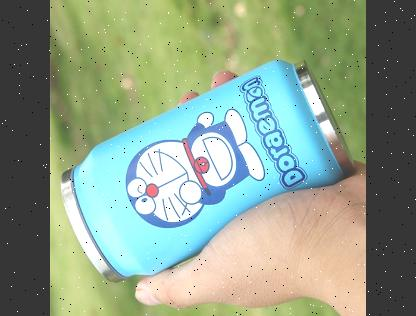Can: (61, 60, 352, 281)
